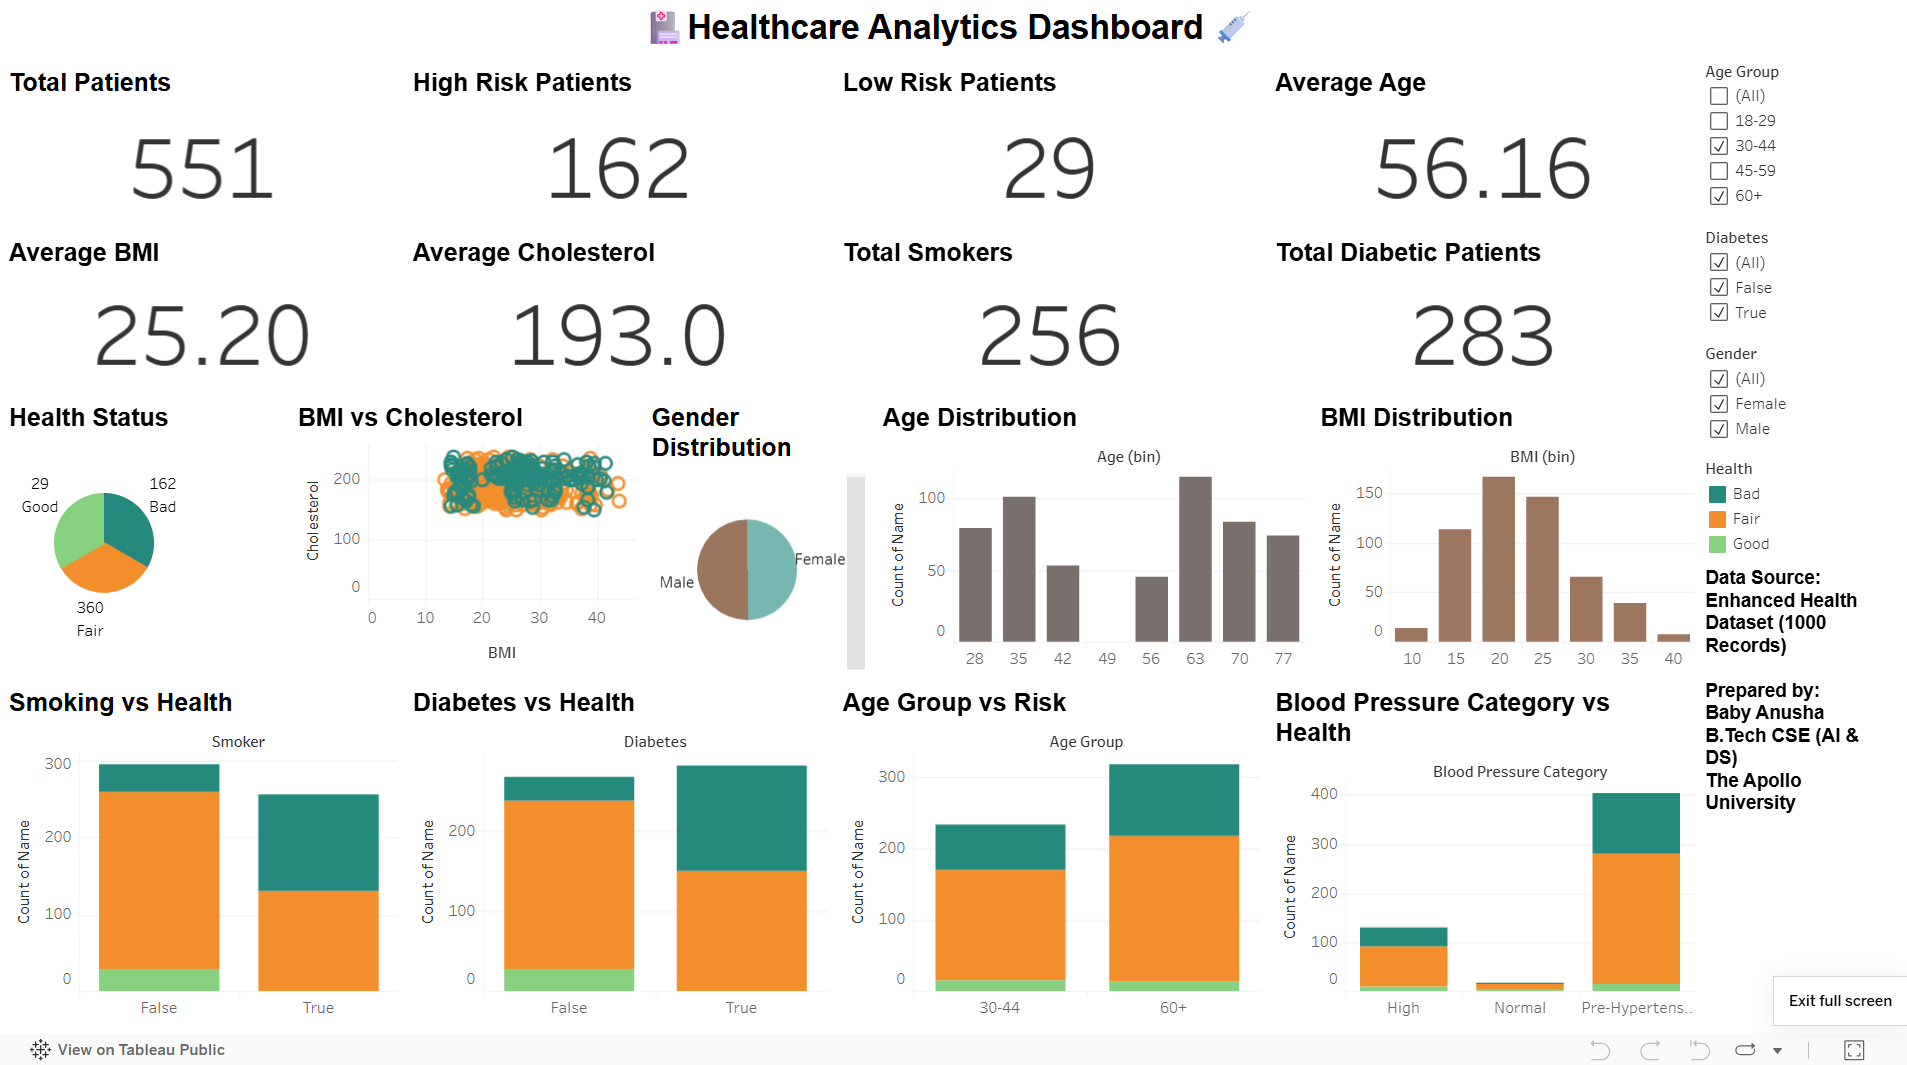

What the dashboard file says about the page in this screenshot:
{"tool":"tableau","page":{"name":"Healthcare Analytics Dashboard","canvas":[1000,1000],"units":"permille","ordinal":1},"visuals":[{"type":"title","box":[4.9,10,990.1,66.2]},{"type":"worksheet","title":"Total Patients","mark":"Automatic","box":[4.9,76.2,212.1,159.8]},{"type":"worksheet","title":"High Risk Patients","mark":"Automatic","box":[217,76.2,225.4,159.8]},{"type":"worksheet","title":"Low Risk Patients","mark":"Automatic","box":[442.4,76.2,226.5,159.8]},{"type":"worksheet","title":"Average Age","mark":"Automatic","box":[668.9,76.2,228.2,159.8]},{"type":"filter","title":"Gender Distribution","param":"[federated.18npj8t10nghyy1fi832j1rp6ehd].[none:Calculation_0084687645040641:nk]","box":[897.1,76.2,98,188.5]},{"type":"worksheet","title":"Average BMI","mark":"Automatic","box":[4.9,236,212.1,155.7]},{"type":"worksheet","title":"Average Cholesterol","mark":"Automatic","box":[217,236,225.4,155.7]},{"type":"worksheet","title":"Total Smokers","mark":"Automatic","box":[442.4,236,226.5,155.7]},{"type":"worksheet","title":"Total Diabetic Patients","mark":"Automatic","box":[668.9,236,228.2,155.7]},{"type":"filter","title":"Smoking vs Health","param":"[federated.18npj8t10nghyy1fi832j1rp6ehd].[none:Diabetes:nk]","box":[897.1,264.7,98,131.1]},{"type":"worksheet","title":"Health Status","mark":"Pie","box":[4.9,391.6,151.7,268.9]},{"type":"worksheet","title":"BMI vs Cholesterol","mark":"Automatic","rows":["Cholesterol"],"cols":["BMI"],"box":[156.6,391.6,185.6,268.9]},{"type":"worksheet","title":"Gender Distribution","mark":"Pie","box":[342.2,391.6,120.8,268.9]},{"type":"worksheet","title":"Age Distribution","mark":"Automatic","rows":["Name"],"cols":["Age (bin)"],"box":[463,391.6,229.4,268.9]},{"type":"worksheet","title":"BMI Distribution","mark":"Automatic","rows":["Name"],"cols":["BMI (bin)"],"box":[692.4,391.6,204.7,268.9]},{"type":"filter","title":"Smoking vs Health","param":"[federated.18npj8t10nghyy1fi832j1rp6ehd].[none:Gender:nk]","box":[897.1,395.8,98,131.1]},{"type":"legend","title":"BMI vs Cholesterol","param":"[federated.18npj8t10nghyy1fi832j1rp6ehd].[none:Health:nk]","box":[897.1,526.9,98,116.1]},{"type":"text","box":[897.1,643,98,298.4]},{"type":"worksheet","title":"Smoking vs Health","mark":"Automatic","rows":["Name"],"cols":["Smoker"],"box":[4.9,660.5,212.1,329.5]},{"type":"worksheet","title":"Diabetes vs Health","mark":"Automatic","rows":["Name"],"cols":["Diabetes"],"box":[217,660.5,225.4,329.5]},{"type":"worksheet","title":"Age Group vs Risk","mark":"Automatic","rows":["Name"],"cols":["Calculation_0084687645040641"],"box":[442.4,660.5,226.5,329.5]},{"type":"worksheet","title":"Blood Pressure Category vs Health","mark":"Automatic","rows":["Name"],"cols":["Calculation_0084687645659139"],"box":[668.9,660.5,228.2,329.5]}]}

Visuals, with their boxes on the dashboard's canvas, which has no fixed pixel size, in thousandths of its width and height (x1, y1, x2, y2). These are canvas units, not pixel positions in the 1907x1065 screenshot, which may show the page scaled, cropped or inside an application window:
title: region(5, 10, 995, 76)
"Total Patients" worksheet: region(5, 76, 217, 236)
"High Risk Patients" worksheet: region(217, 76, 442, 236)
"Low Risk Patients" worksheet: region(442, 76, 669, 236)
"Average Age" worksheet: region(669, 76, 897, 236)
"Gender Distribution" filter: region(897, 76, 995, 265)
"Average BMI" worksheet: region(5, 236, 217, 392)
"Average Cholesterol" worksheet: region(217, 236, 442, 392)
"Total Smokers" worksheet: region(442, 236, 669, 392)
"Total Diabetic Patients" worksheet: region(669, 236, 897, 392)
"Smoking vs Health" filter: region(897, 265, 995, 396)
"Health Status" worksheet (Pie marks): region(5, 392, 157, 660)
"BMI vs Cholesterol" worksheet: region(157, 392, 342, 660)
"Gender Distribution" worksheet (Pie marks): region(342, 392, 463, 660)
"Age Distribution" worksheet: region(463, 392, 692, 660)
"BMI Distribution" worksheet: region(692, 392, 897, 660)
"Smoking vs Health" filter: region(897, 396, 995, 527)
"BMI vs Cholesterol" legend: region(897, 527, 995, 643)
text: region(897, 643, 995, 941)
"Smoking vs Health" worksheet: region(5, 660, 217, 990)
"Diabetes vs Health" worksheet: region(217, 660, 442, 990)
"Age Group vs Risk" worksheet: region(442, 660, 669, 990)
"Blood Pressure Category vs Health" worksheet: region(669, 660, 897, 990)
